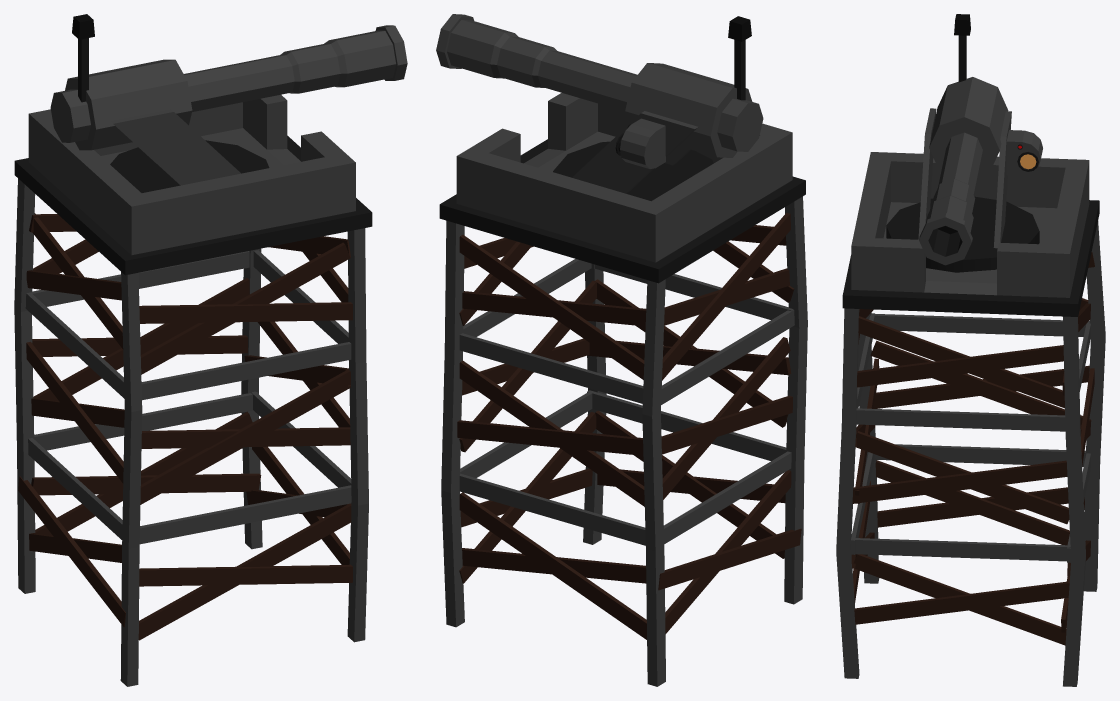
Rendered from Torre_Dispara.FBX.
The picture shows the model from 3 angles, left to right: view 1: azimuth 30°, elevation 25°; view 2: azimuth 150°, elevation 25°; view 3: azimuth 270°, elevation 25°; orthographic projection. The views are drawn at different scales.
Visible parts, largest first — view 1: Plane008, Object003, Torreta001, Torreta_Base001; view 2: Plane008, Object003, Torreta001, Torreta_Base001; view 3: Plane008, Object003, Torreta001, Torreta_Base001.
Boxes of the visible parts, <box> form: Plane008: <box>14,135,372,686</box>; Object003: <box>28,94,355,255</box>; Torreta001: <box>50,14,407,150</box>; Torreta_Base001: <box>110,109,269,192</box>; Plane008: <box>439,139,807,686</box>; Object003: <box>456,93,792,262</box>; Torreta001: <box>436,14,763,157</box>; Torreta_Base001: <box>553,111,713,201</box>; Plane008: <box>836,200,1105,686</box>; Object003: <box>851,152,1089,297</box>; Torreta001: <box>919,14,1008,265</box>; Torreta_Base001: <box>886,108,1042,272</box>.
Size of the model in its own units: 923 by 1720 by 743.
